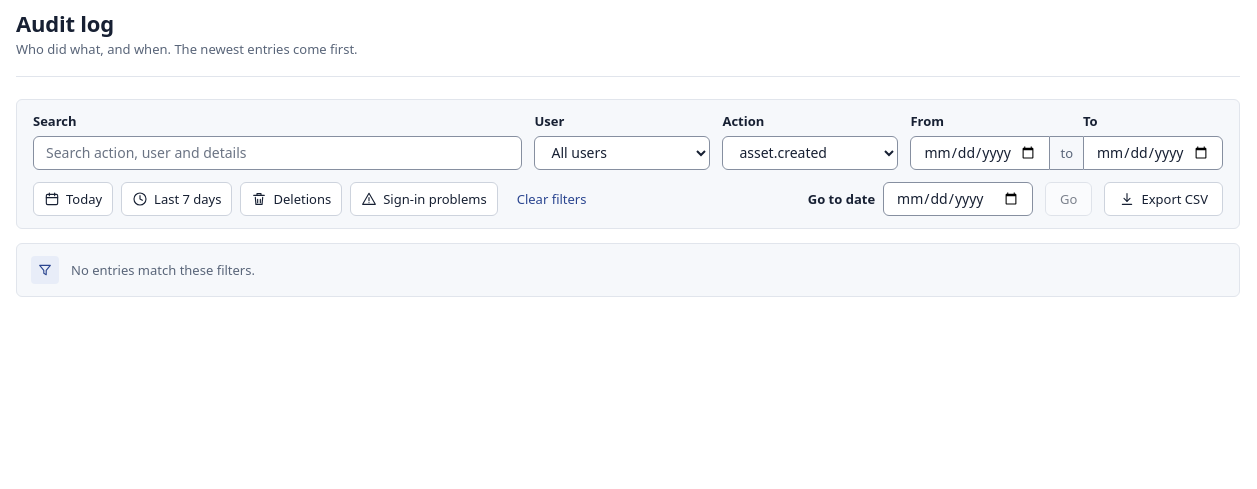
Test case: AuditPage › says nothing matches when filters leave no entry, and Clear filters brings the log back
Check: the element showing "No entries match these filters." is shown, box 16,243 -> 1240,297
What coordinates should you click on to do the following:
click the button "Clear filters"
I would click on:
 (552, 199)
Its box is 506,184 -> 598,214.
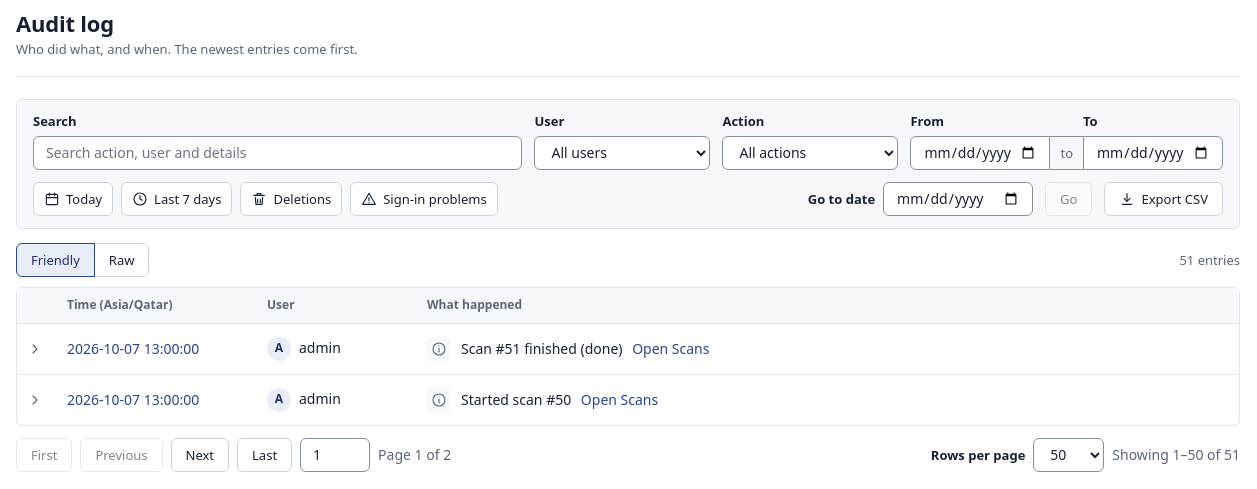
Check: the text "Scan #51 finished (done)" is shown, box 461,339 -> 622,358
